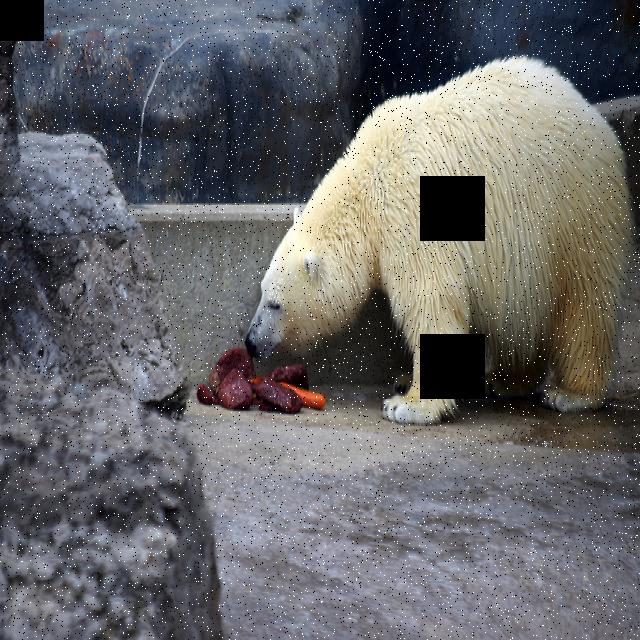Bear: (233, 54, 629, 422)
